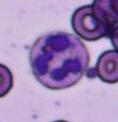N: (28, 31, 90, 89)
